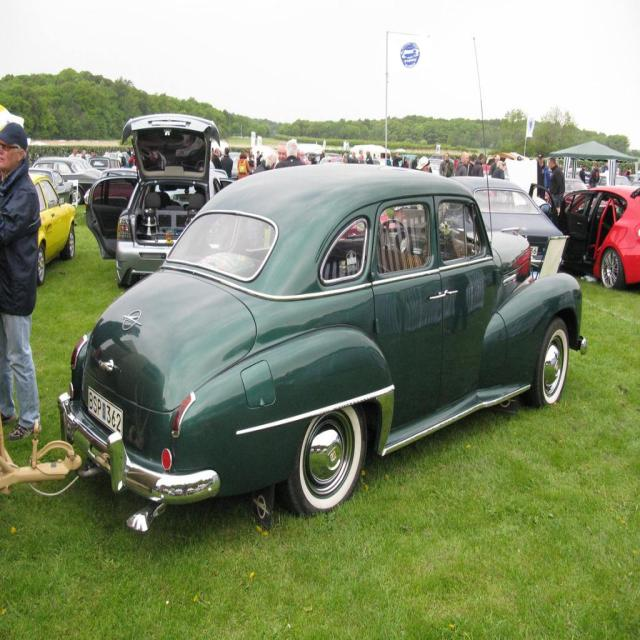Car: (72, 163, 586, 513), (85, 116, 234, 283), (529, 188, 640, 289), (451, 175, 564, 271), (31, 178, 76, 284)
